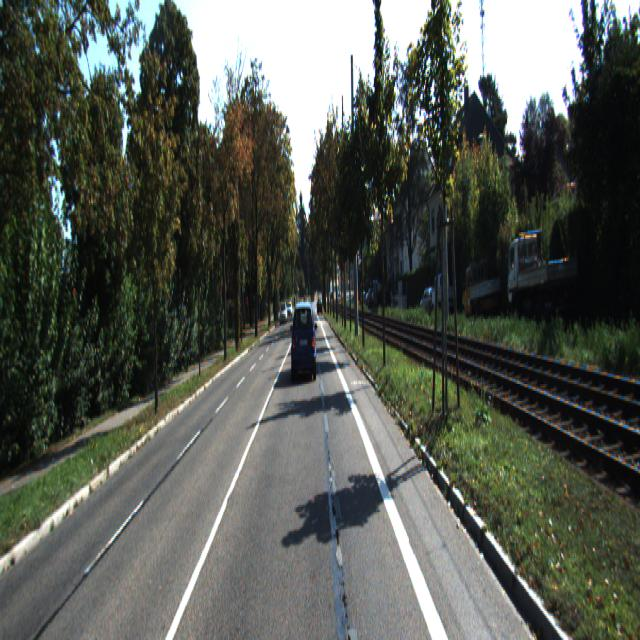Car: (507, 222, 579, 324), (462, 260, 502, 322), (290, 300, 317, 383), (432, 270, 456, 315), (421, 287, 440, 317)
